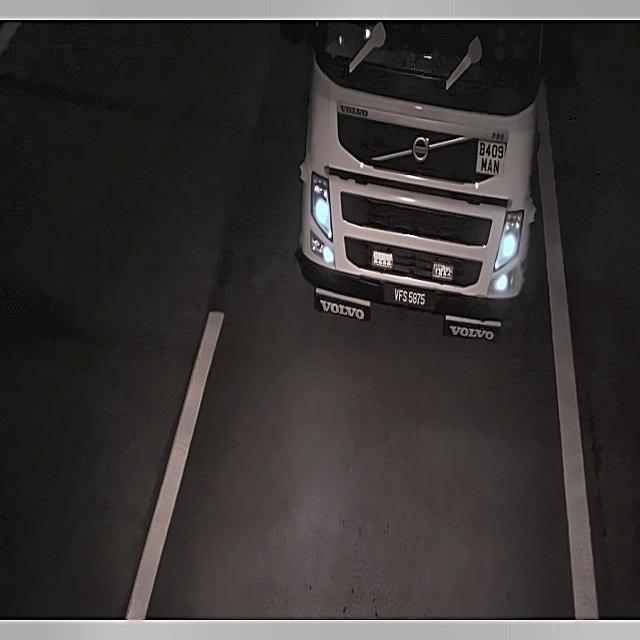car: (389, 285, 431, 311)
